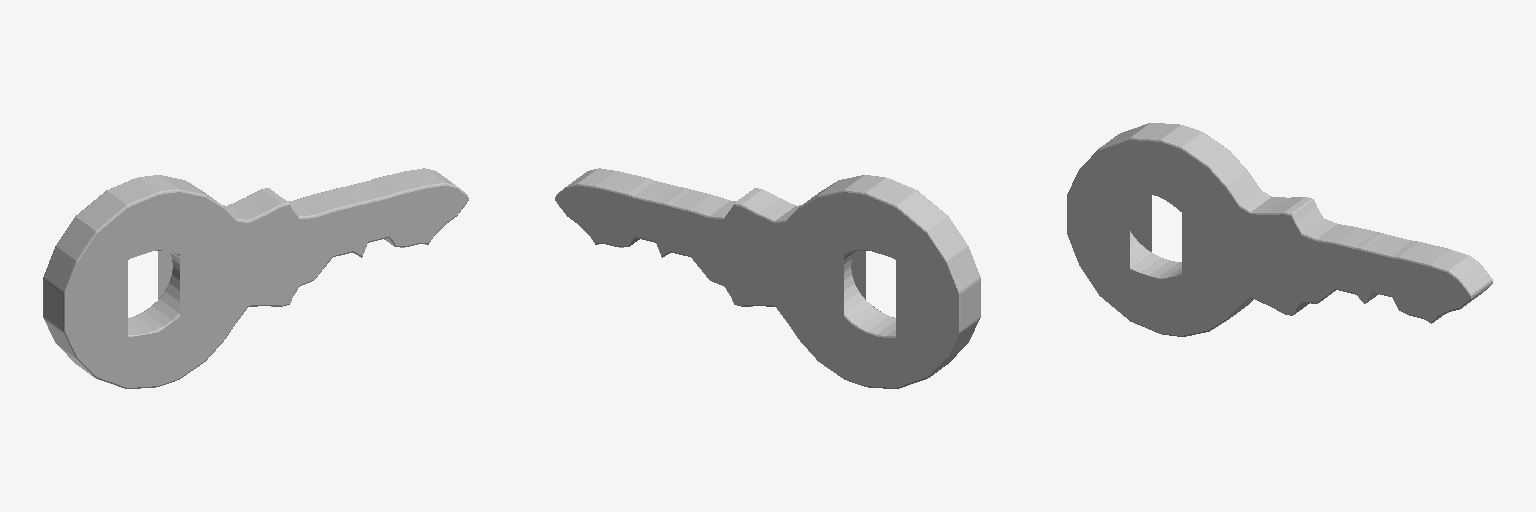
File: key.obj
3 views of the same model, side by side, from view 1: azimuth 30°, elevation 25°; view 2: azimuth 150°, elevation 25°; view 3: azimuth 330°, elevation 25° (orthographic).
Visible parts, largest first — view 1: Cube_Cube.009; view 2: Cube_Cube.009; view 3: Cube_Cube.009.
Part boxes in pixels (left/top/right/bottom): Cube_Cube.009: left=43, top=168, right=468, bottom=388; Cube_Cube.009: left=555, top=168, right=980, bottom=388; Cube_Cube.009: left=1067, top=123, right=1492, bottom=336.
Size of the model in its own units: 4.44 by 2.05 by 0.4164.